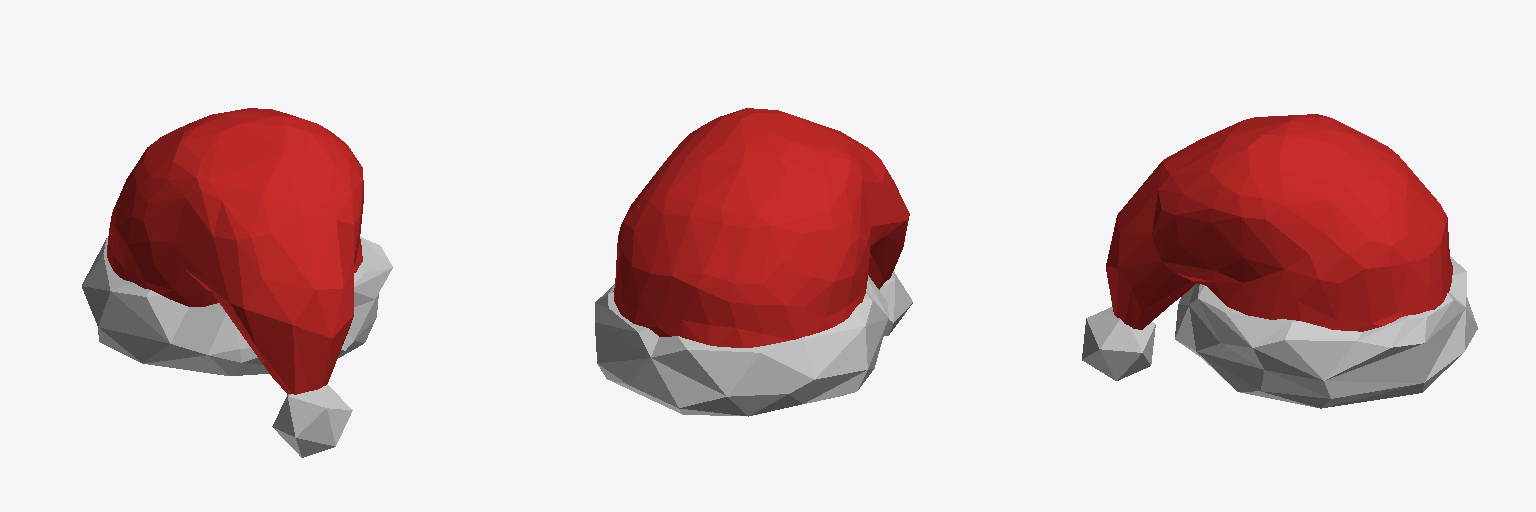
The model's file is SantaHat.obj.
3 renders of one model, left to right at view 1: azimuth 30°, elevation 25°; view 2: azimuth 150°, elevation 25°; view 3: azimuth 270°, elevation 25°, orthographic.
Parts seen in each view (by area): view 1: SantaHat_Cube.002; view 2: SantaHat_Cube.002; view 3: SantaHat_Cube.002.
Boxes of the visible parts, box(x1,y1,x2,y2) form: SantaHat_Cube.002: box(82, 108, 392, 457); SantaHat_Cube.002: box(595, 108, 912, 416); SantaHat_Cube.002: box(1082, 114, 1477, 408).
Bounding box in the file's own units: 0.7965 × 0.7814 × 1.06.